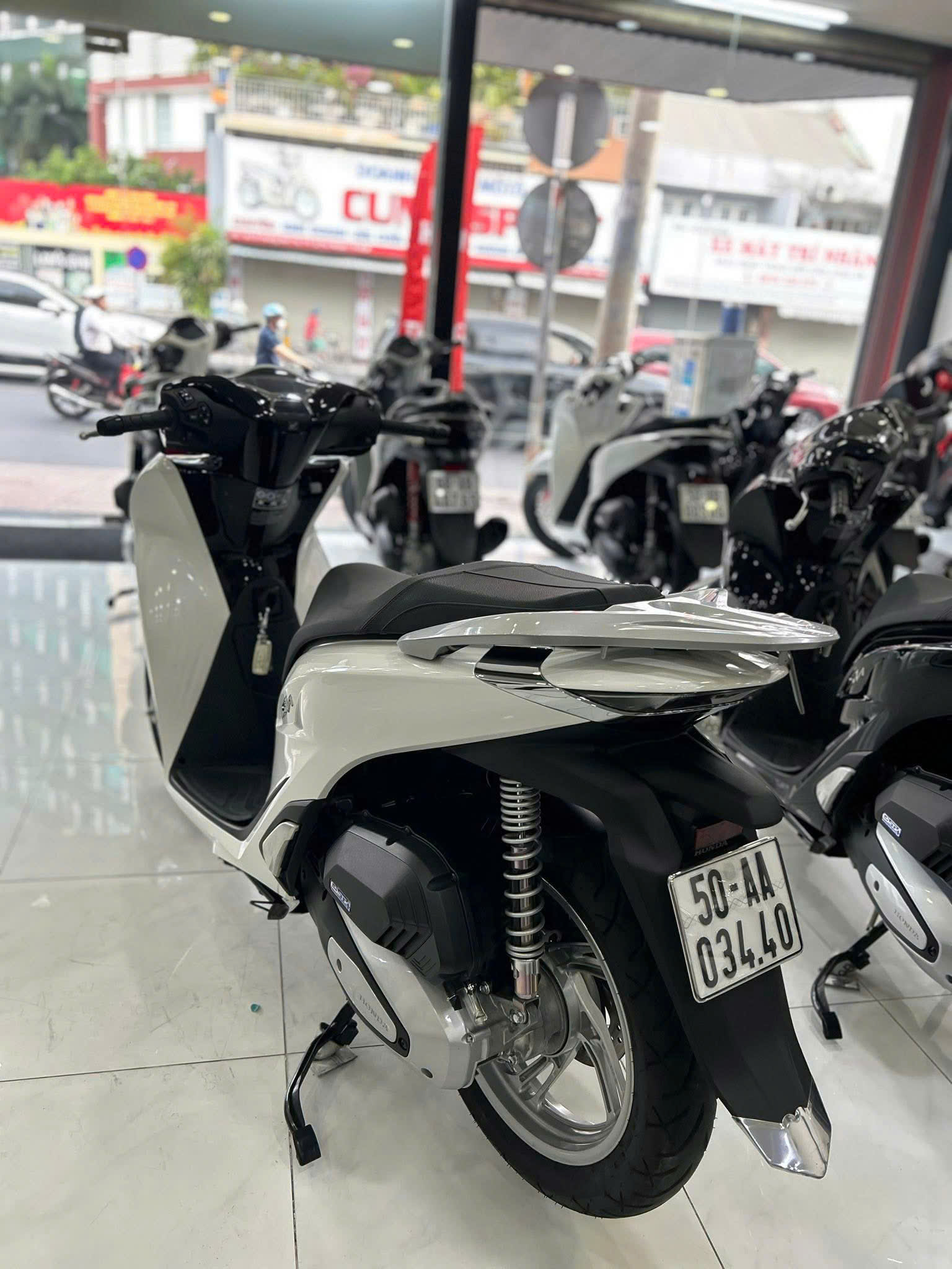Bien-so: (669, 839, 808, 1008), (424, 467, 482, 512), (682, 482, 727, 522)
